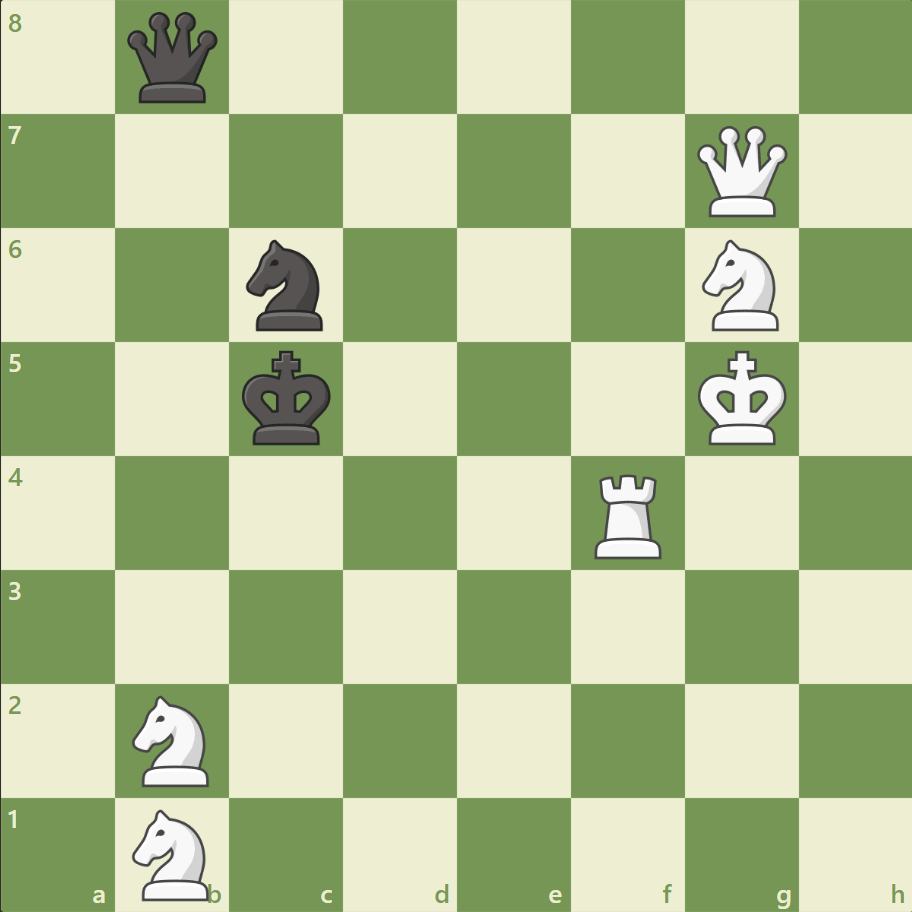K: (692, 344, 792, 452)
N: (124, 688, 222, 791), (124, 802, 222, 904), (692, 234, 789, 337)
Q: (691, 122, 790, 222)
R: (587, 466, 670, 563)
k: (238, 344, 338, 452)
n: (238, 234, 335, 337)
q: (124, 9, 223, 108)
